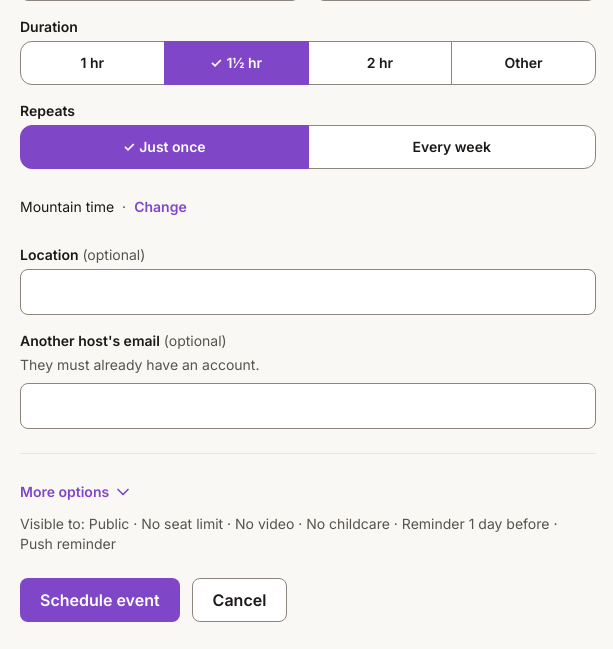
shares the group form's order: When, Location, then a closed More options with its summary
(page scrolled)
Check: the text "Mountain time" is shown, box x1=20 y1=197 x2=114 y2=217
Check: the text "Visible to: Public · No seat limit · No video · No childcare · Reminder 1 day before · Push reminder" is shown, box x1=20 y1=515 x2=557 y2=552
# Church-wide events offer public or private only.
Click the button "More options" at (77, 492), box x1=20 y1=470 x2=133 y2=514
(page scrolled)
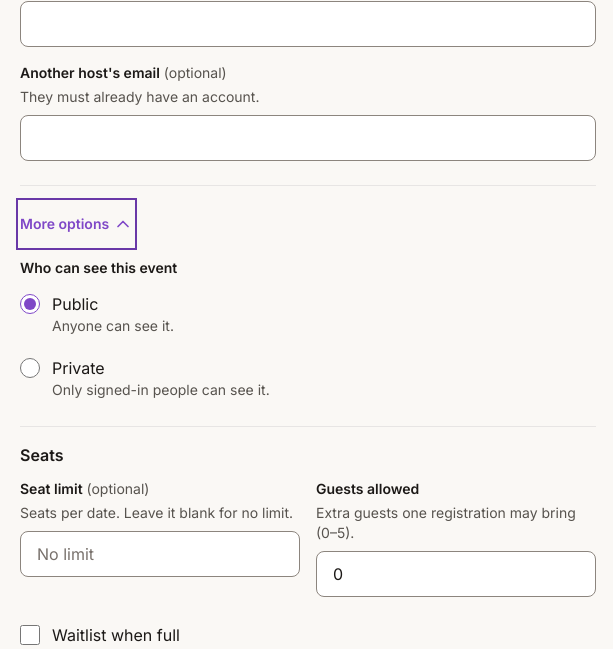
Check: the element "Who can see this event" is shown, box x1=20 y1=259 x2=270 y2=398
